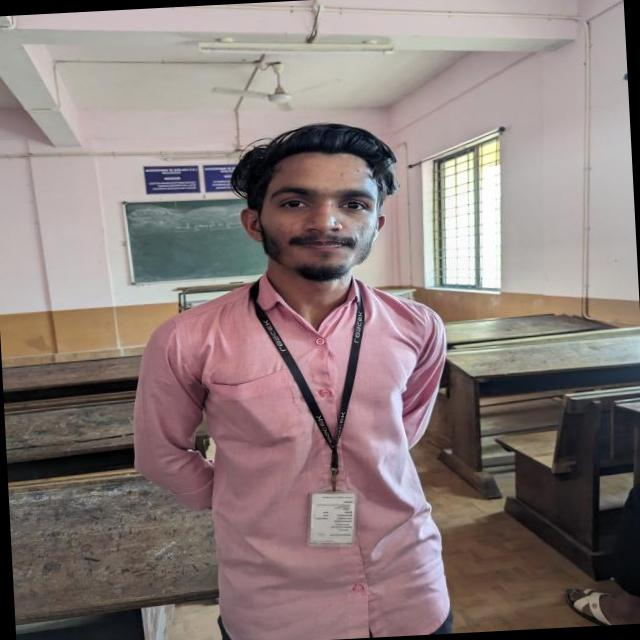id_card: (266, 287, 376, 544)
